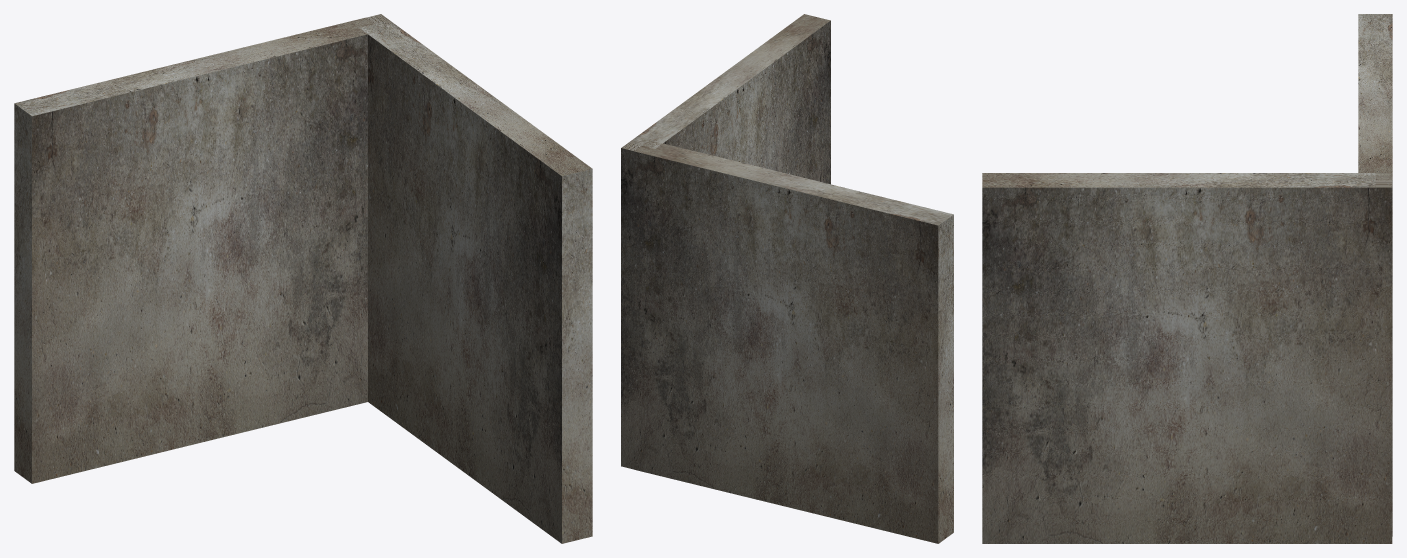
The model's file is corner.fbx.
3 views of the same model, side by side, from view 1: azimuth 30°, elevation 25°; view 2: azimuth 150°, elevation 25°; view 3: azimuth 270°, elevation 25° (orthographic). The views are drawn at different scales.
Visible parts, largest first — view 1: Wall; view 2: Wall; view 3: Wall.
Part boxes in pixels (bbox=[...]): Wall: bbox=[14, 14, 592, 543]; Wall: bbox=[621, 14, 953, 543]; Wall: bbox=[982, 14, 1392, 543].
Size of the model in its own units: 418 by 400 by 418.
